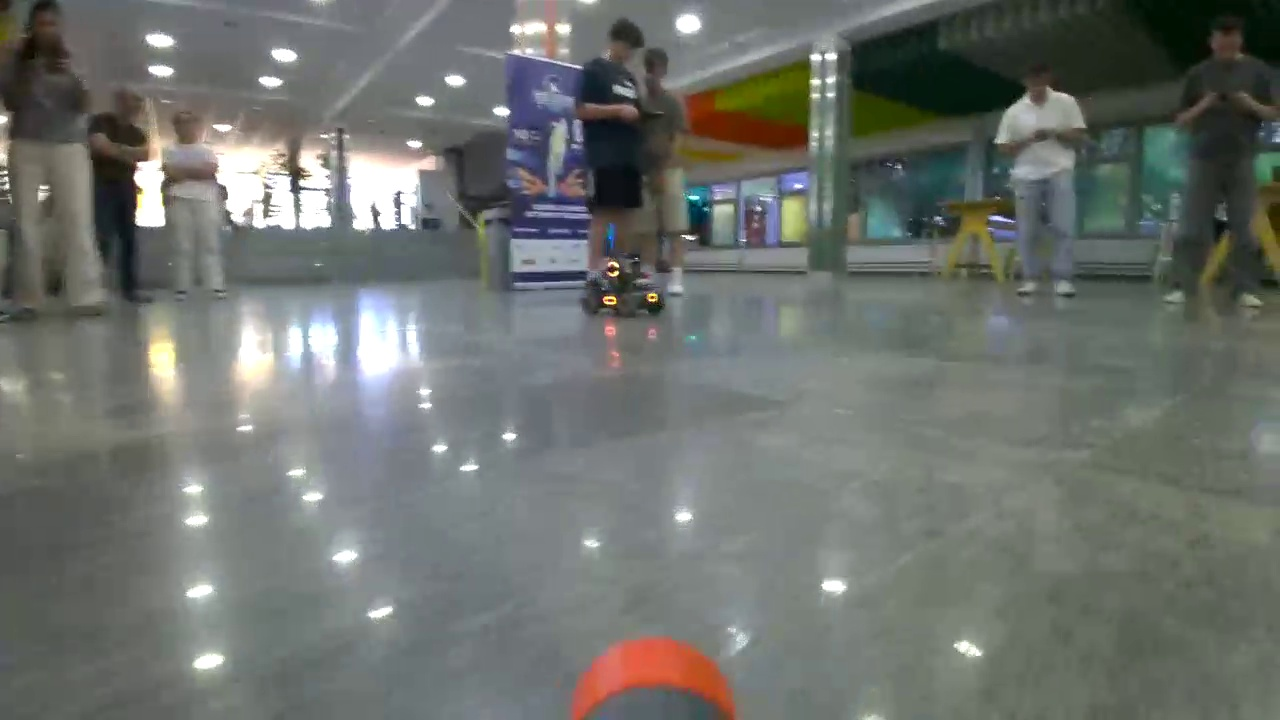robot: (585, 253, 666, 314)
